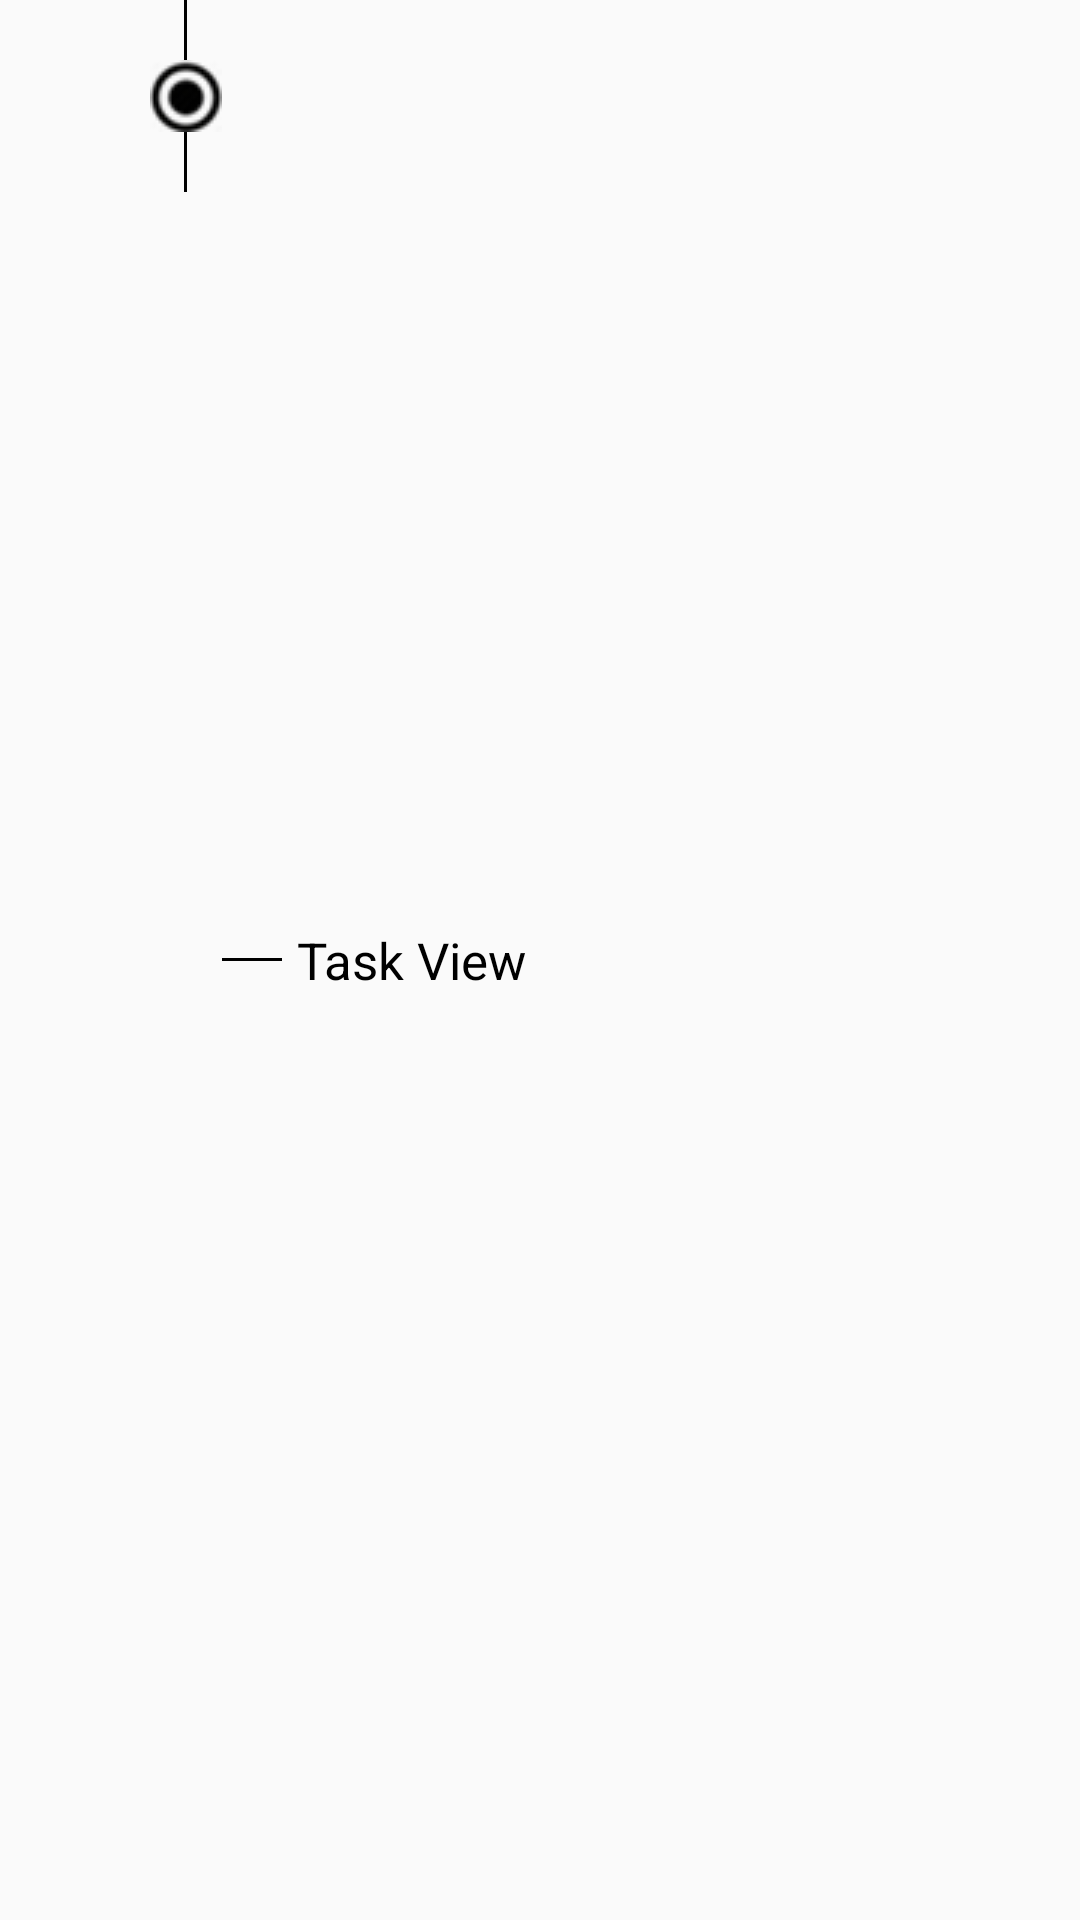

Locate icon controls on the screen. Image size 1080 x 1920, boxes as box=[x1, y1, x2, y2].
radio: box=[150, 60, 222, 132]
